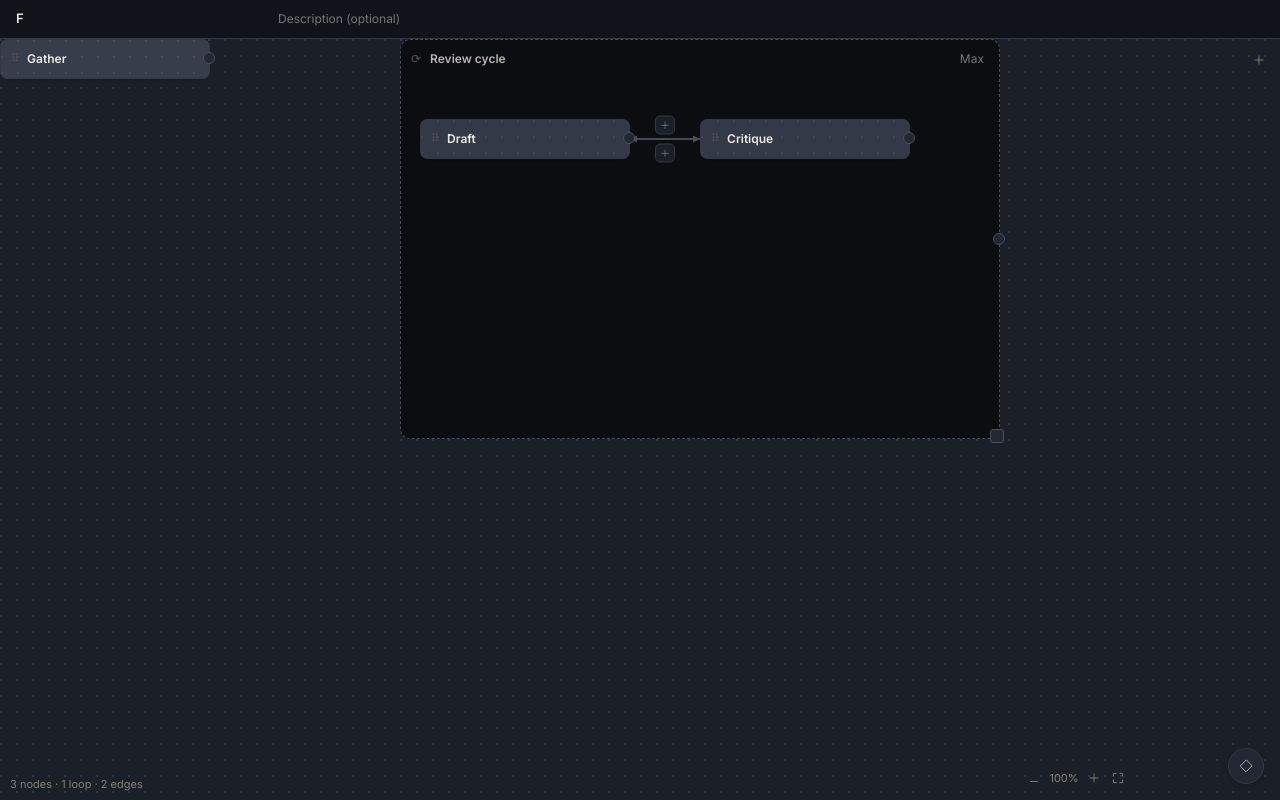
it: dragging between containers (FLO-FR-42, FLO-FR-40 / FLO-FR-43 / FLO-FR-44, FLO-FR-21) › moves the element and removes exactly those edges when confirmed
Press the mouse on the 2nd element showing "⠿" at (525, 138), box [420,118,630,158]
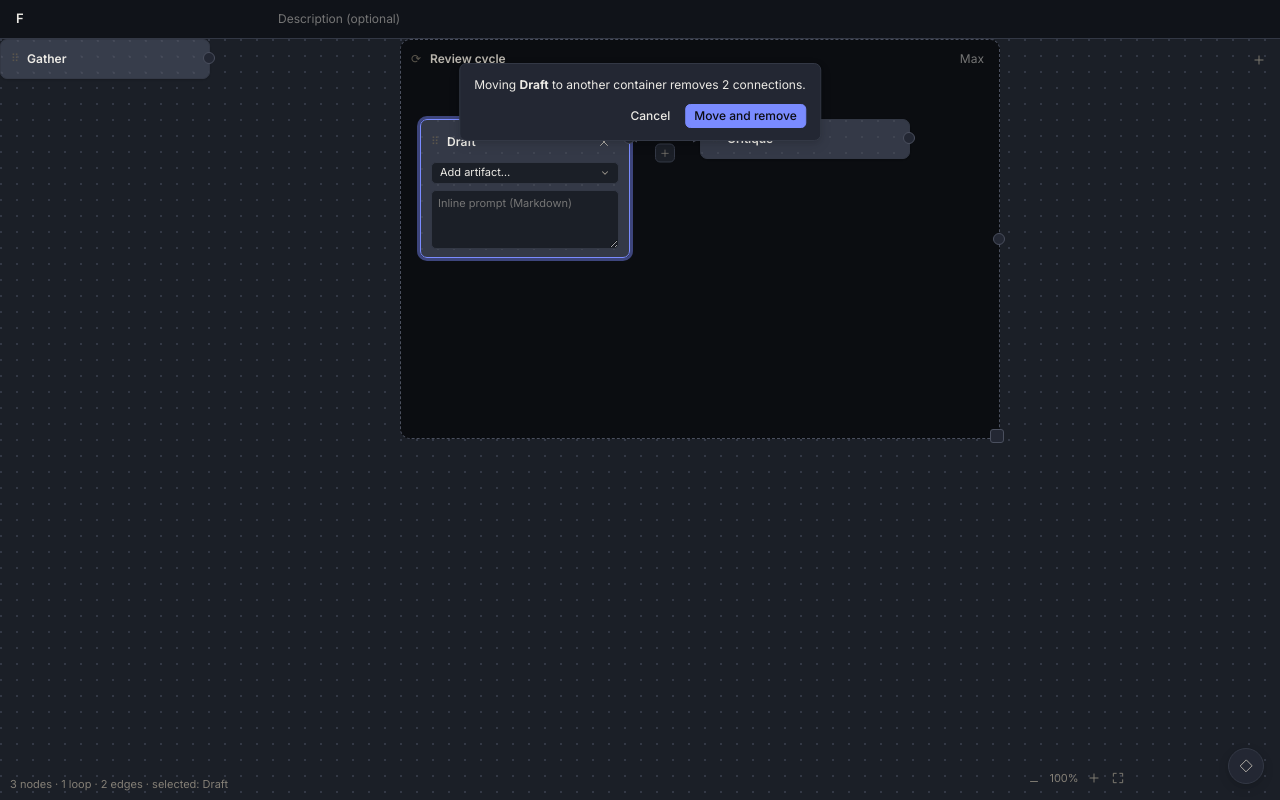
Click the button "Move and remove" at (746, 116), box [685,104,806,128]
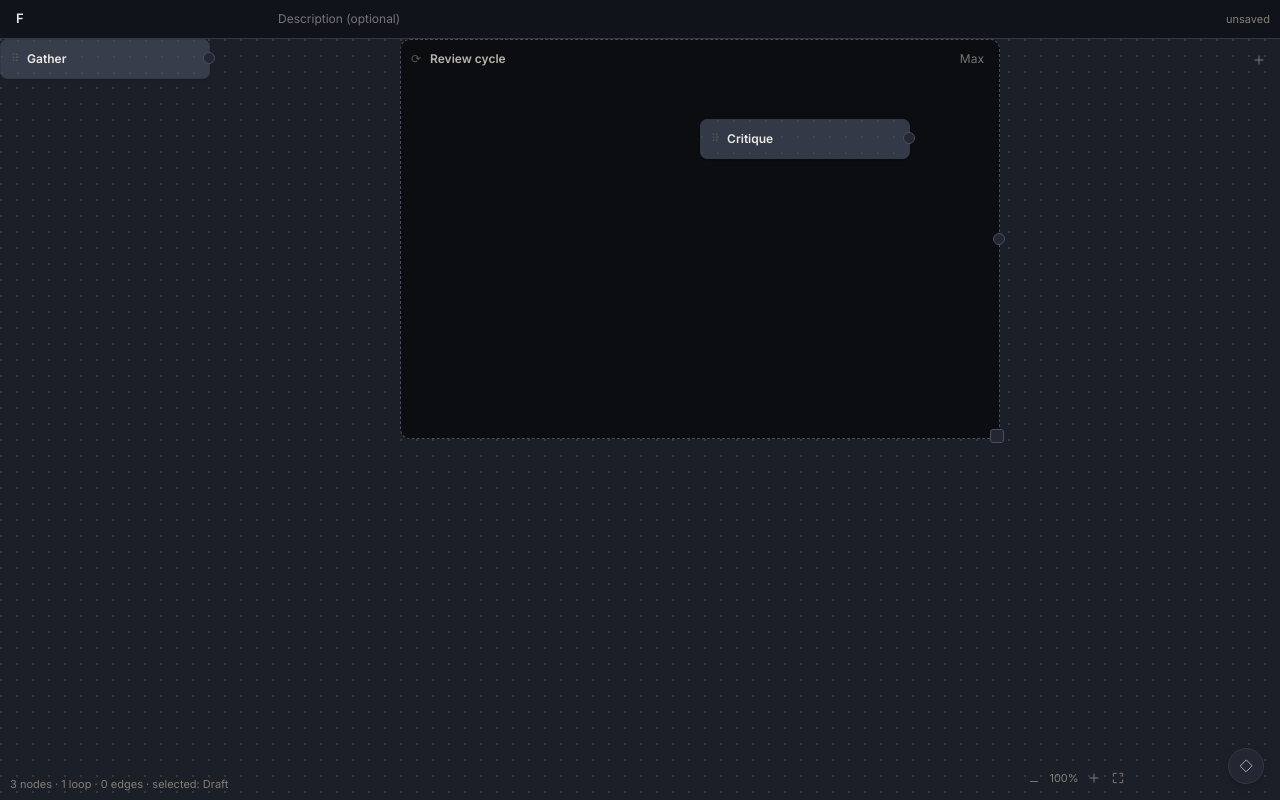
Now the text "unsaved" is shown, box [1226,12,1270,27]
